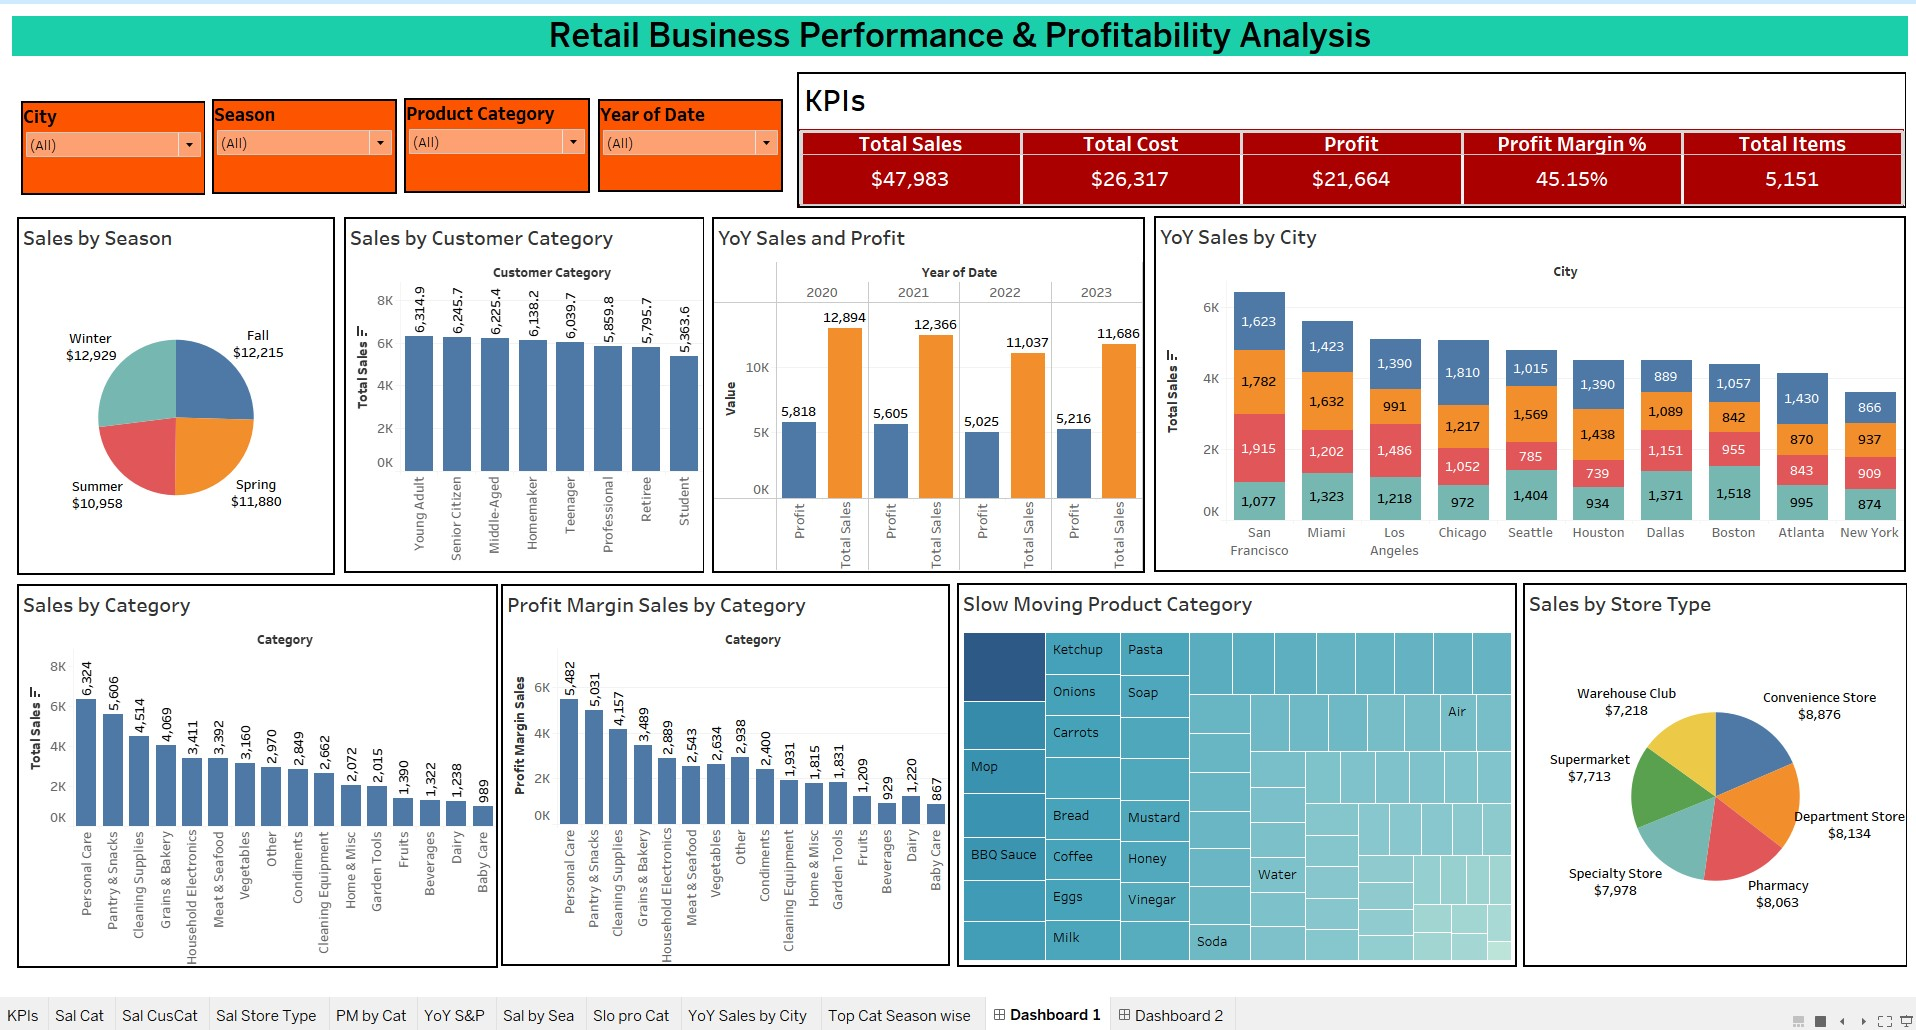

The page's visual inventory and layout, read from the dashboard file:
{"tool":"tableau","page":{"name":"Dashboard 1","canvas":[1000,1000],"units":"permille","ordinal":0},"visuals":[{"type":"title","box":[4.8,10,990.4,59.9]},{"type":"filter","title":"KPIs","param":"[federated.147rlhs1k9m5h614jcqbi0b3pmi0].[none:City:nk]","box":[34.4,78.7,96.4,66.2]},{"type":"filter","title":"KPIs","param":"[federated.147rlhs1k9m5h614jcqbi0b3pmi0].[none:Season:nk]","box":[137,79.9,96.6,66.2]},{"type":"filter","title":"KPIs","param":"[federated.147rlhs1k9m5h614jcqbi0b3pmi0].[none:Product_Category:nk]","box":[240.1,79.9,96.9,66.2]},{"type":"filter","title":"KPIs","param":"[federated.147rlhs1k9m5h614jcqbi0b3pmi0].[yr:Date:ok]","box":[344.2,79.9,96.3,64.9]},{"type":"worksheet","title":"KPIs","mark":"Automatic","box":[466.6,79.9,512.4,137.3]},{"type":"worksheet","title":"YoY S&P","mark":"Bar","cols":["Date"],"box":[9.6,183.5,324.3,387]},{"type":"worksheet","title":"YoY Sales by City","mark":"Bar","rows":["Total_Sales"],"cols":["City"],"box":[340.6,224.7,437.4,344.6]},{"type":"worksheet","title":"Sal by Sea","mark":"Pie","box":[784.8,237.2,197.7,330.8]},{"type":"worksheet","title":"Sal Cat","mark":"Automatic","rows":["Total_Sales"],"cols":["Category"],"box":[9.1,589.3,243.8,390.8]},{"type":"worksheet","title":"Sal CusCat","mark":"Automatic","rows":["Total_Sales"],"cols":["Customer_Category"],"box":[255.3,591.8,212.4,388.3]},{"type":"worksheet","title":"Sal Store Type","mark":"Pie","box":[767.1,591.8,219.1,383.3]},{"type":"worksheet","title":"Slo pro Cat","mark":"Automatic","box":[471.1,593,291.8,380.8]}]}

Visuals, with their boxes on the dashboard's canvas, which has no fixed pixel size, in thousandths of its width and height (x1, y1, x2, y2). These are canvas units, not pixel positions in the 1916x1030 screenshot, which may show the page scaled, cropped or inside an application window:
title: pyautogui.locateOnScreen(5, 10, 995, 70)
"KPIs" filter: pyautogui.locateOnScreen(34, 79, 131, 145)
"KPIs" filter: pyautogui.locateOnScreen(137, 80, 234, 146)
"KPIs" filter: pyautogui.locateOnScreen(240, 80, 337, 146)
"KPIs" filter: pyautogui.locateOnScreen(344, 80, 440, 145)
"KPIs" worksheet: pyautogui.locateOnScreen(467, 80, 979, 217)
"YoY S&P" worksheet (Bar marks): pyautogui.locateOnScreen(10, 184, 334, 570)
"YoY Sales by City" worksheet (Bar marks): pyautogui.locateOnScreen(341, 225, 778, 569)
"Sal by Sea" worksheet (Pie marks): pyautogui.locateOnScreen(785, 237, 982, 568)
"Sal Cat" worksheet: pyautogui.locateOnScreen(9, 589, 253, 980)
"Sal CusCat" worksheet: pyautogui.locateOnScreen(255, 592, 468, 980)
"Sal Store Type" worksheet (Pie marks): pyautogui.locateOnScreen(767, 592, 986, 975)
"Slo pro Cat" worksheet: pyautogui.locateOnScreen(471, 593, 763, 974)
